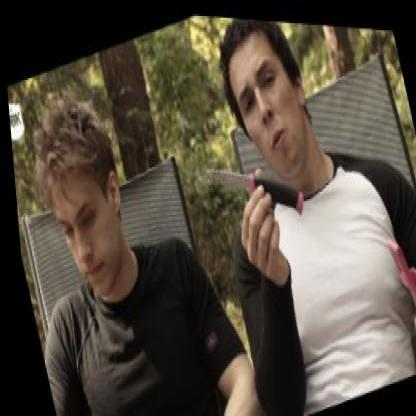knife: (197, 119, 309, 253)
